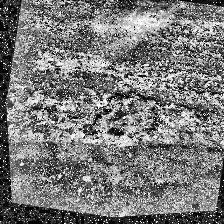pothole: (82, 83, 166, 159)
